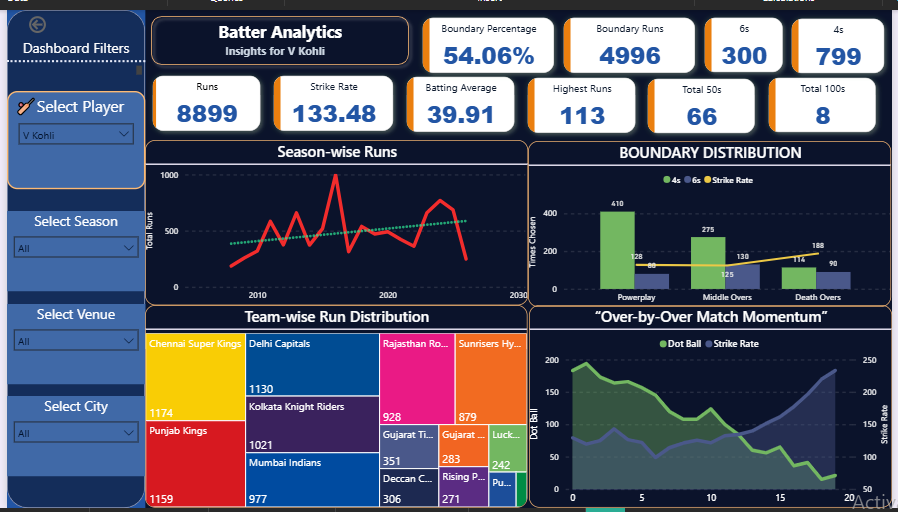

The page's visual inventory and layout, read from the dashboard file:
{"tool":"powerbi","page":{"name":"Batter Analytics","canvas":[1280,720],"ordinal":2},"visuals":[{"type":"cardVisual","fields":{"Data":["Dax.Strike Rate"]},"box":[375,83.9,195.2,102.7],"z":0},{"type":"areaChart","title":"“Over-by-Over Match Momentum”","fields":{"Category":["fact_ipl.over"],"Y":["Dax_Batter.Dot Ball"],"Y2":["Dax.Strike Rate"]},"box":[754.7,426.5,524.8,293.5],"z":1000},{"type":"shape","box":[199.5,0,390.4,88.2],"z":2000},{"type":"textbox","title":"Batter Analytics","box":[218.3,14.5,352.8,60.7],"z":3000},{"type":"shape","box":[0,0,199.5,720],"z":4000},{"type":"slicer","title":"Select Season","fields":{"Values":["fact_ipl.season"]},"box":[0,290.6,199.5,115.7],"z":5000},{"type":"slicer","title":"Select Venue","fields":{"Values":["dim_venue.venue"]},"box":[0,425.1,199.5,115.7],"z":6000},{"type":"slicer","title":"🏏Select Player","fields":{"Values":["dim_player.player_name"]},"box":[0,117.1,199.5,141.7],"z":7000},{"type":"textbox","title":"Dashboard Filters","box":[0,40.5,199.5,57.8],"z":8000},{"type":"slicer","title":"Select City","fields":{"Values":["dim_venue.city"]},"box":[0,558.1,199.5,115.7],"z":9000},{"type":"cardVisual","fields":{"Data":["Dax.Runs"]},"box":[199.7,84,178.8,102.8],"z":10000},{"type":"cardVisual","fields":{"Data":["Dax.Batting Average"]},"box":[566.7,85.3,178,102],"z":11000},{"type":"cardVisual","fields":{"Data":["Dax_Batter.Boundary Percentage"]},"box":[589.9,0,212.5,102.7],"z":12000},{"type":"cardVisual","fields":{"Data":["Dax.Highest Runs"]},"box":[741.2,86.7,178,102],"z":13000},{"type":"lineChart","title":"Season-wise Runs","fields":{"Category":["fact_ipl.season"],"Y":["Dax.Total Runs"]},"box":[199.5,188,553.7,238.6],"z":14000},{"type":"lineClusteredColumnComboChart","title":"BOUNDARY DISTRIBUTION","fields":{"Category":["fact_ipl.innings_phase"],"Y":["Dax.4s","Dax.6s"],"Y2":["Dax.Strike Rate"]},"box":[753.1,189.8,525.4,239.9],"z":15000},{"type":"cardVisual","fields":{"Data":["Dax.Boundary Runs"]},"box":[793.6,0,212.5,102.7],"z":16000},{"type":"cardVisual","fields":{"Data":["Dax.Total 50s"]},"box":[915.8,88.2,177.8,101.2],"z":17000},{"type":"cardVisual","fields":{"Data":["Dax.Total 100s"]},"box":[1090.1,86.7,177.8,101.2],"z":18000},{"type":"cardVisual","fields":{"Data":["Dax.4s"]},"box":[1123.4,1.4,156.1,101.2],"z":19000},{"type":"cardVisual","fields":{"Data":["Dax.6s"]},"box":[997.2,0,135,101.2],"z":20000},{"type":"cardVisual","fields":{"Data":["Dax.Dynamic Player"]},"box":[303.6,24.6,305.1,60.7],"z":21000},{"type":"treemap","title":"Team-wise Run Distribution","fields":{"Group":["dim_opponent.team_name"],"Values":["Dax.Runs"]},"box":[199.5,426.5,553,293],"z":22000},{"type":"actionButton","box":[27.5,1.4,33.3,39],"z":23000}]}

Visuals, with their boxes in screenshot pixels (x1, y1, x2, y2), scaled from the page's 1280x720 canvas onto the 898x512 screenshot:
cardVisual - Dax.Strike Rate: [263,60,400,133]
"“Over-by-Over Match Momentum”" areaChart: [529,303,897,511]
shape: [140,0,414,63]
"Batter Analytics" textbox: [153,10,401,53]
shape: [0,0,140,511]
"Select Season" slicer: [0,207,140,289]
"Select Venue" slicer: [0,302,140,385]
"🏏Select Player" slicer: [0,83,140,184]
"Dashboard Filters" textbox: [0,29,140,70]
"Select City" slicer: [0,397,140,479]
cardVisual - Dax.Runs: [140,60,266,133]
cardVisual - Dax.Batting Average: [398,61,522,133]
cardVisual - Dax_Batter.Boundary Percentage: [414,0,563,73]
cardVisual - Dax.Highest Runs: [520,62,645,134]
"Season-wise Runs" lineChart: [140,134,528,303]
"BOUNDARY DISTRIBUTION" lineClusteredColumnComboChart: [528,135,897,306]
cardVisual - Dax.Boundary Runs: [557,0,706,73]
cardVisual - Dax.Total 50s: [642,63,767,135]
cardVisual - Dax.Total 100s: [765,62,890,134]
cardVisual - Dax.4s: [788,1,897,73]
cardVisual - Dax.6s: [700,0,794,72]
cardVisual - Dax.Dynamic Player: [213,17,427,61]
"Team-wise Run Distribution" treemap: [140,303,528,511]
actionButton: [19,1,43,29]
